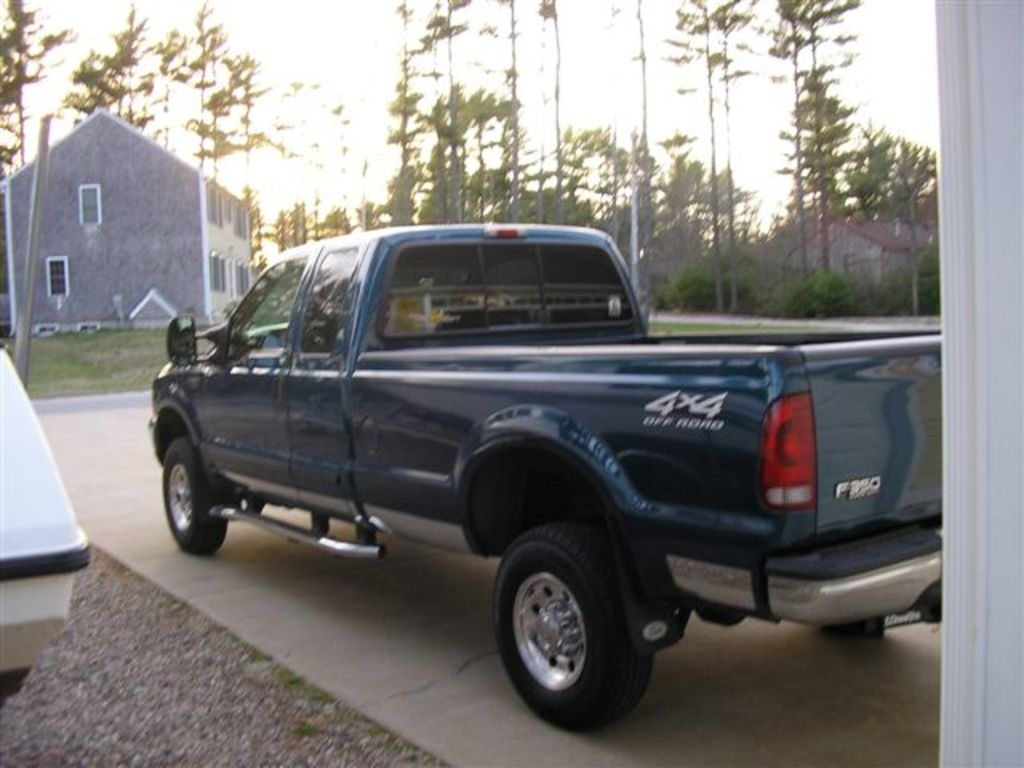Tree: (0, 0, 939, 305)
